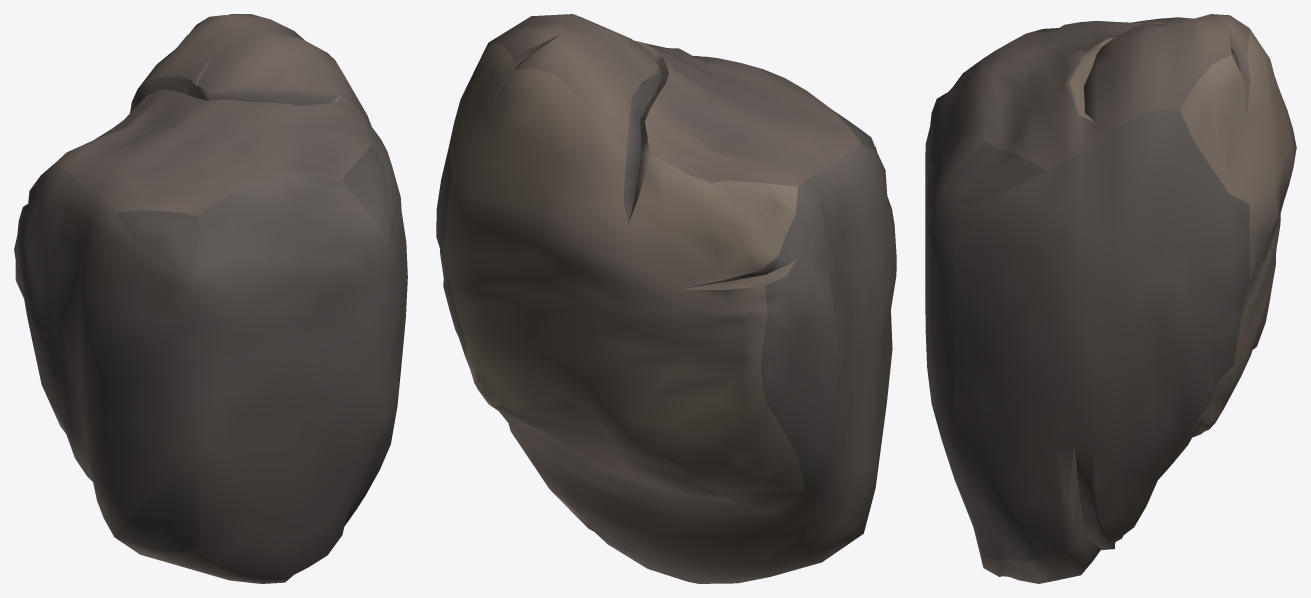
Rendered from RockHuge.001.glb.
3 renders of one model, left to right at view 1: azimuth 30°, elevation 25°; view 2: azimuth 150°, elevation 25°; view 3: azimuth 270°, elevation 25°, orthographic. The views are drawn at different scales.
Parts seen in each view (by area): view 1: RockHuge.001; view 2: RockHuge.001; view 3: RockHuge.001.
Boxes of the visible parts, x1,y1,x2,y2 form: RockHuge.001: (14, 14, 407, 583); RockHuge.001: (436, 14, 896, 583); RockHuge.001: (925, 14, 1296, 583).
Size of the model in its own units: 2471 by 3495 by 2023.
